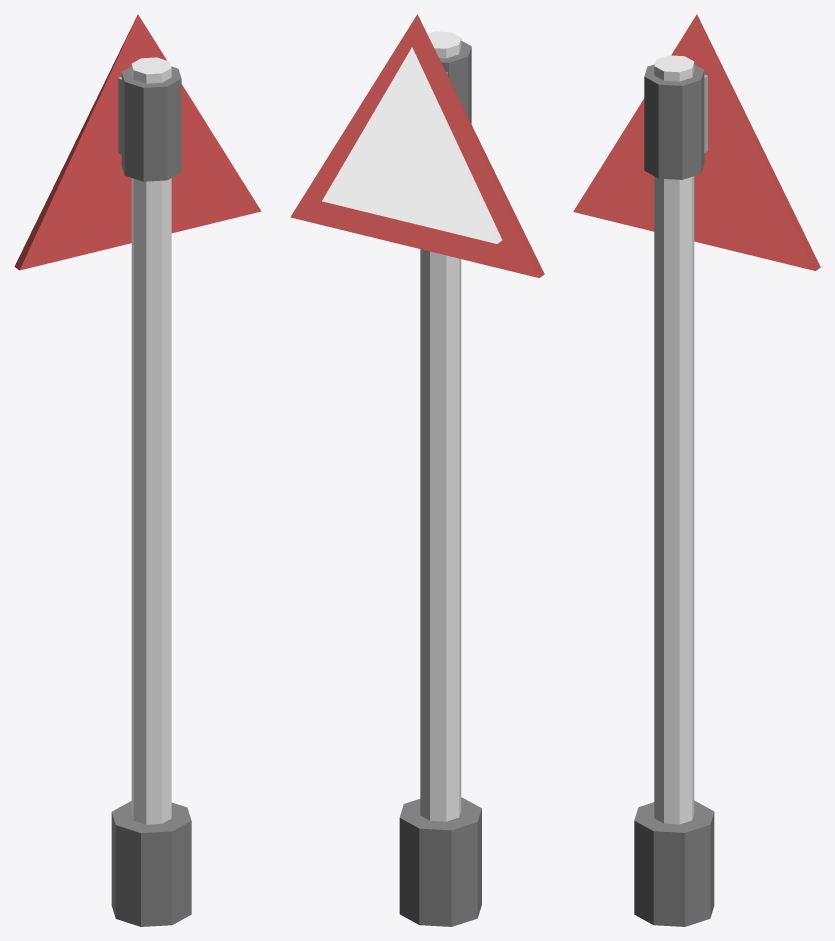
File: sign_triangle.obj
3 renders of one model, left to right at view 1: azimuth 30°, elevation 25°; view 2: azimuth 150°, elevation 25°; view 3: azimuth 330°, elevation 25°, orthographic. The views are drawn at different scales.
Bounding box in the file's own units: 2.7 × 9.4 × 0.9.
